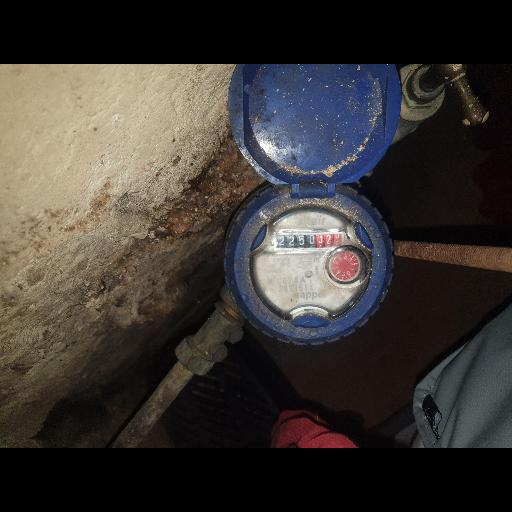0: (307, 235, 318, 248), (332, 234, 342, 247)
2: (286, 235, 297, 248), (276, 235, 286, 248), (325, 234, 334, 248)
3: (317, 234, 325, 248)
5: (296, 235, 306, 248)
border_water_meter_number: (276, 234, 343, 249)
